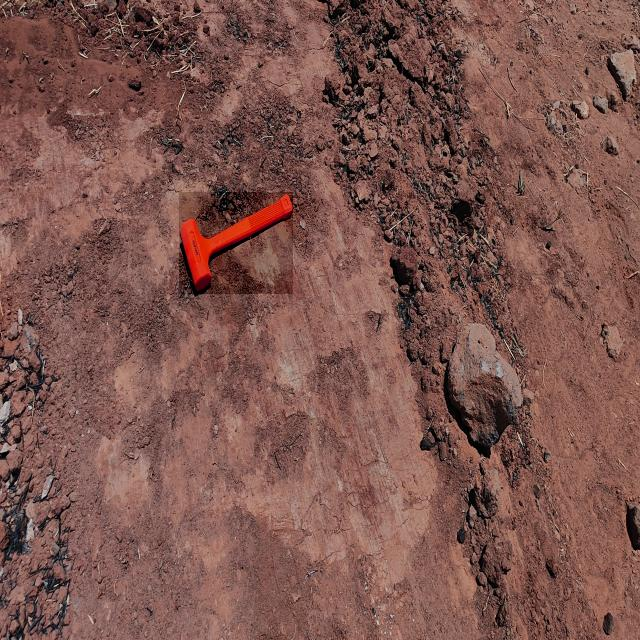Orange_hammer: (179, 192, 293, 294)
